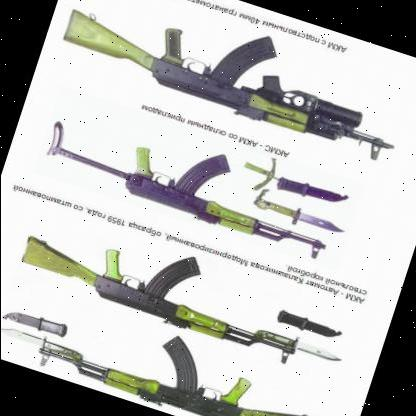rifle: (53, 0, 416, 174), (9, 199, 323, 366), (37, 98, 346, 265), (3, 280, 337, 416)
